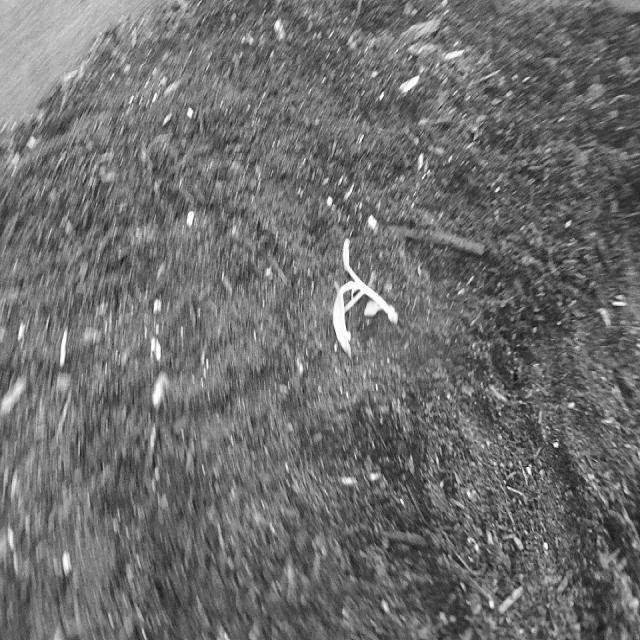Healthy: (323, 224, 407, 376)
